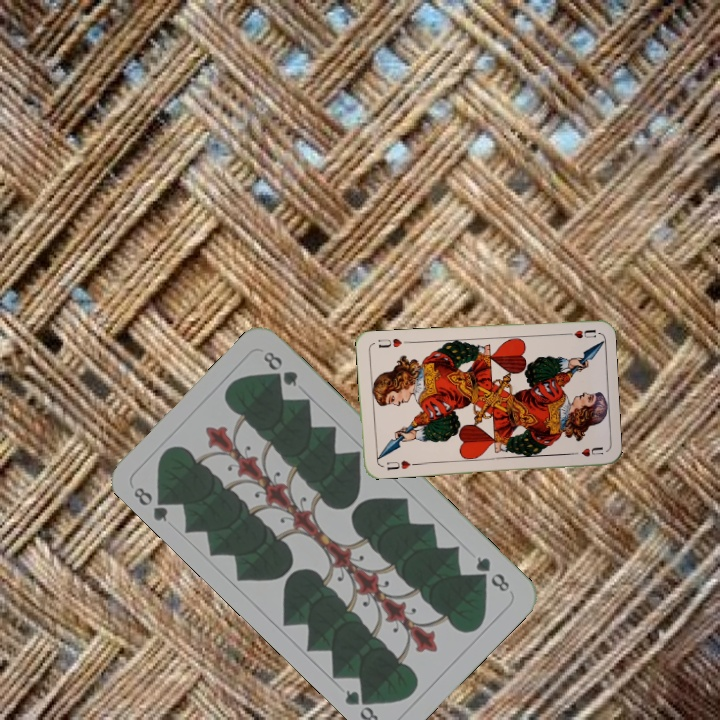G8: (129, 483, 174, 525), (471, 552, 513, 595)
HU: (559, 325, 599, 341), (383, 456, 417, 473)
